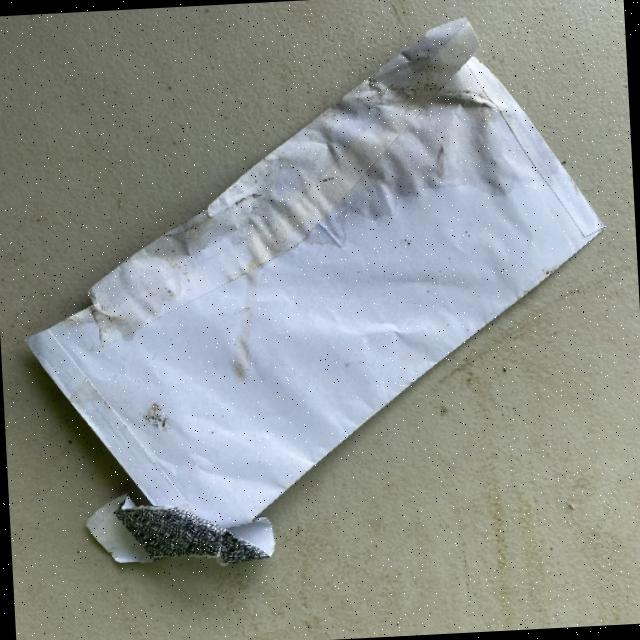paper: (8, 8, 622, 570)
